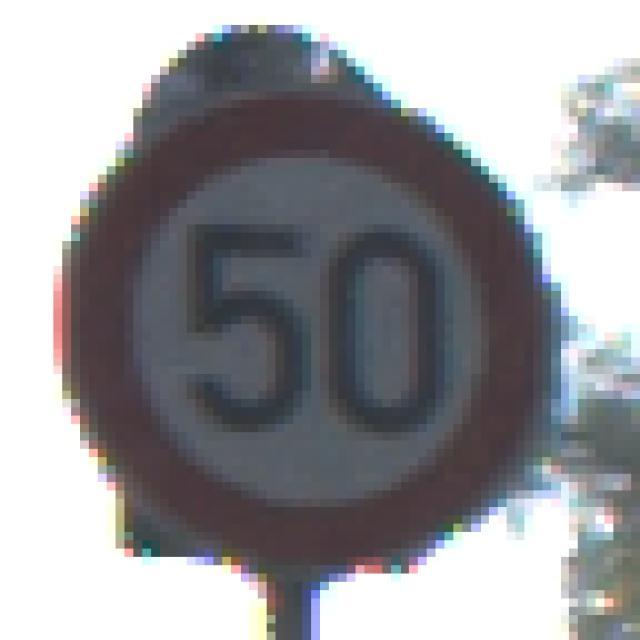speed limit 50: (66, 98, 538, 565)
